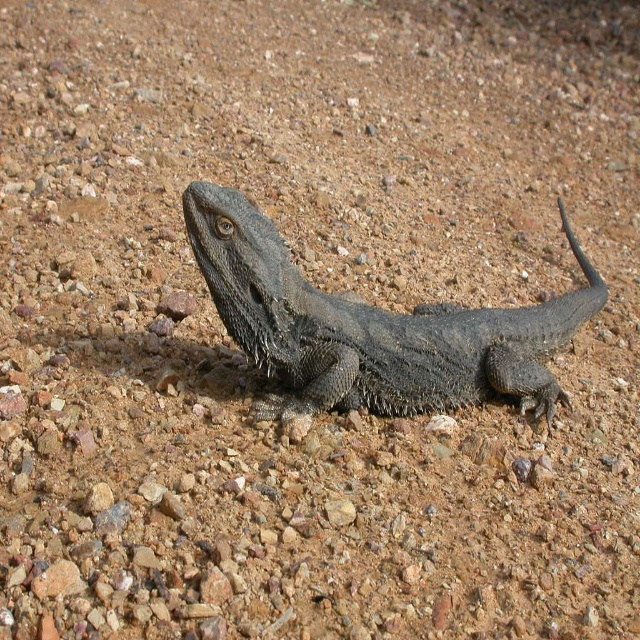Lizard: (169, 190, 625, 456)
